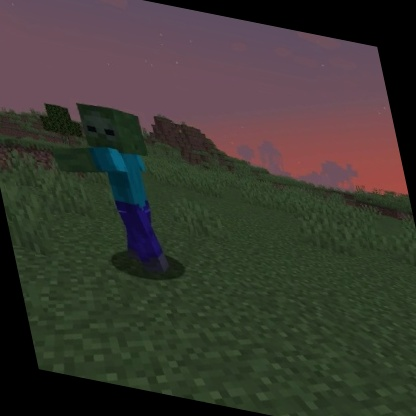zombie: (36, 92, 180, 281)
